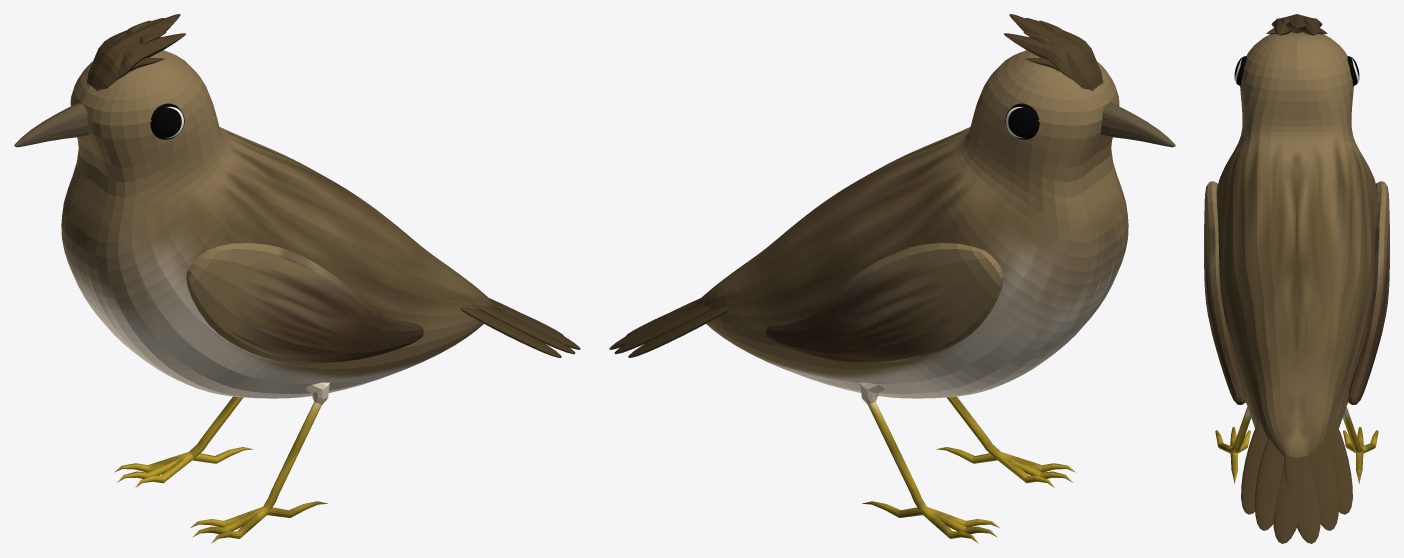
3 renders of one model, left to right at view 1: azimuth 30°, elevation 25°; view 2: azimuth 150°, elevation 25°; view 3: azimuth 270°, elevation 25°, orthographic. The views are drawn at different scales.
Parts seen in each view (by area): view 1: Plane, Plane.006, Plane.007, Plane.001, Plane.005, Plane.002, Cube, Cube.004, Cube.001, Cube.002; view 2: Plane, Plane.006, Plane.007, Plane.001, Plane.005, Plane.002, Cube, Cube.004, Cube.001, Cube.002; view 3: Plane, Plane.006, Cube.001, Cube.002, Cube, Plane.007, Cube.004, Plane.002, Plane.001.
Part boxes in pixels (x1=…): Plane: x1=61, y1=50, x2=492, y2=398; Plane.006: x1=186, y1=243, x2=423, y2=363; Plane.007: x1=114, y1=382, x2=329, y2=543; Plane.001: x1=87, y1=14, x2=180, y2=89; Plane.005: x1=14, y1=103, x2=89, y2=147; Plane.002: x1=86, y1=18, x2=185, y2=91; Cube: x1=460, y1=307, x2=561, y2=357; Cube.004: x1=150, y1=103, x2=184, y2=139; Cube.001: x1=479, y1=306, x2=575, y2=354; Cube.002: x1=489, y1=298, x2=580, y2=349; Plane: x1=697, y1=50, x2=1128, y2=398; Plane.006: x1=766, y1=243, x2=1003, y2=363; Plane.007: x1=860, y1=382, x2=1075, y2=543; Plane.001: x1=1009, y1=14, x2=1102, y2=89; Plane.005: x1=1100, y1=103, x2=1175, y2=147; Plane.002: x1=1004, y1=18, x2=1103, y2=91; Cube: x1=628, y1=307, x2=729, y2=357; Cube.004: x1=1005, y1=103, x2=1039, y2=139; Cube.001: x1=614, y1=306, x2=710, y2=354; Cube.002: x1=609, y1=298, x2=700, y2=349; Plane: x1=1216, y1=32, x2=1377, y2=457; Plane.006: x1=1204, y1=181, x2=1389, y2=404; Cube.001: x1=1255, y1=438, x2=1338, y2=530; Cube.002: x1=1273, y1=455, x2=1320, y2=543; Cube: x1=1241, y1=420, x2=1352, y2=514; Plane.007: x1=1215, y1=401, x2=1378, y2=483; Cube.004: x1=1234, y1=56, x2=1359, y2=85; Plane.002: x1=1271, y1=17, x2=1322, y2=35; Plane.001: x1=1285, y1=14, x2=1308, y2=33.
Bounding box in the file's own units: 472 × 400 × 162.
Materials: 9 (9 with a texture image).
